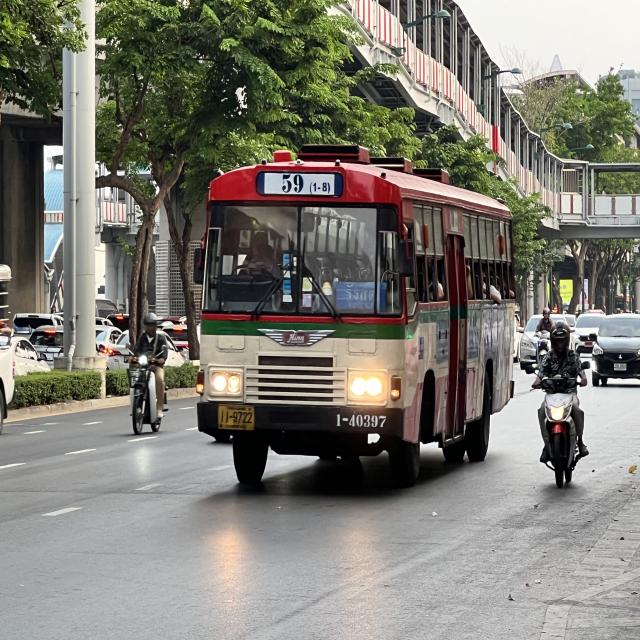BMTA-bus: (189, 134, 520, 494)
Bus-Line-Number: (256, 170, 342, 199)
Destination-Sign-Normal: (335, 279, 387, 314)
